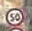limite 50: (5, 7, 23, 25)
